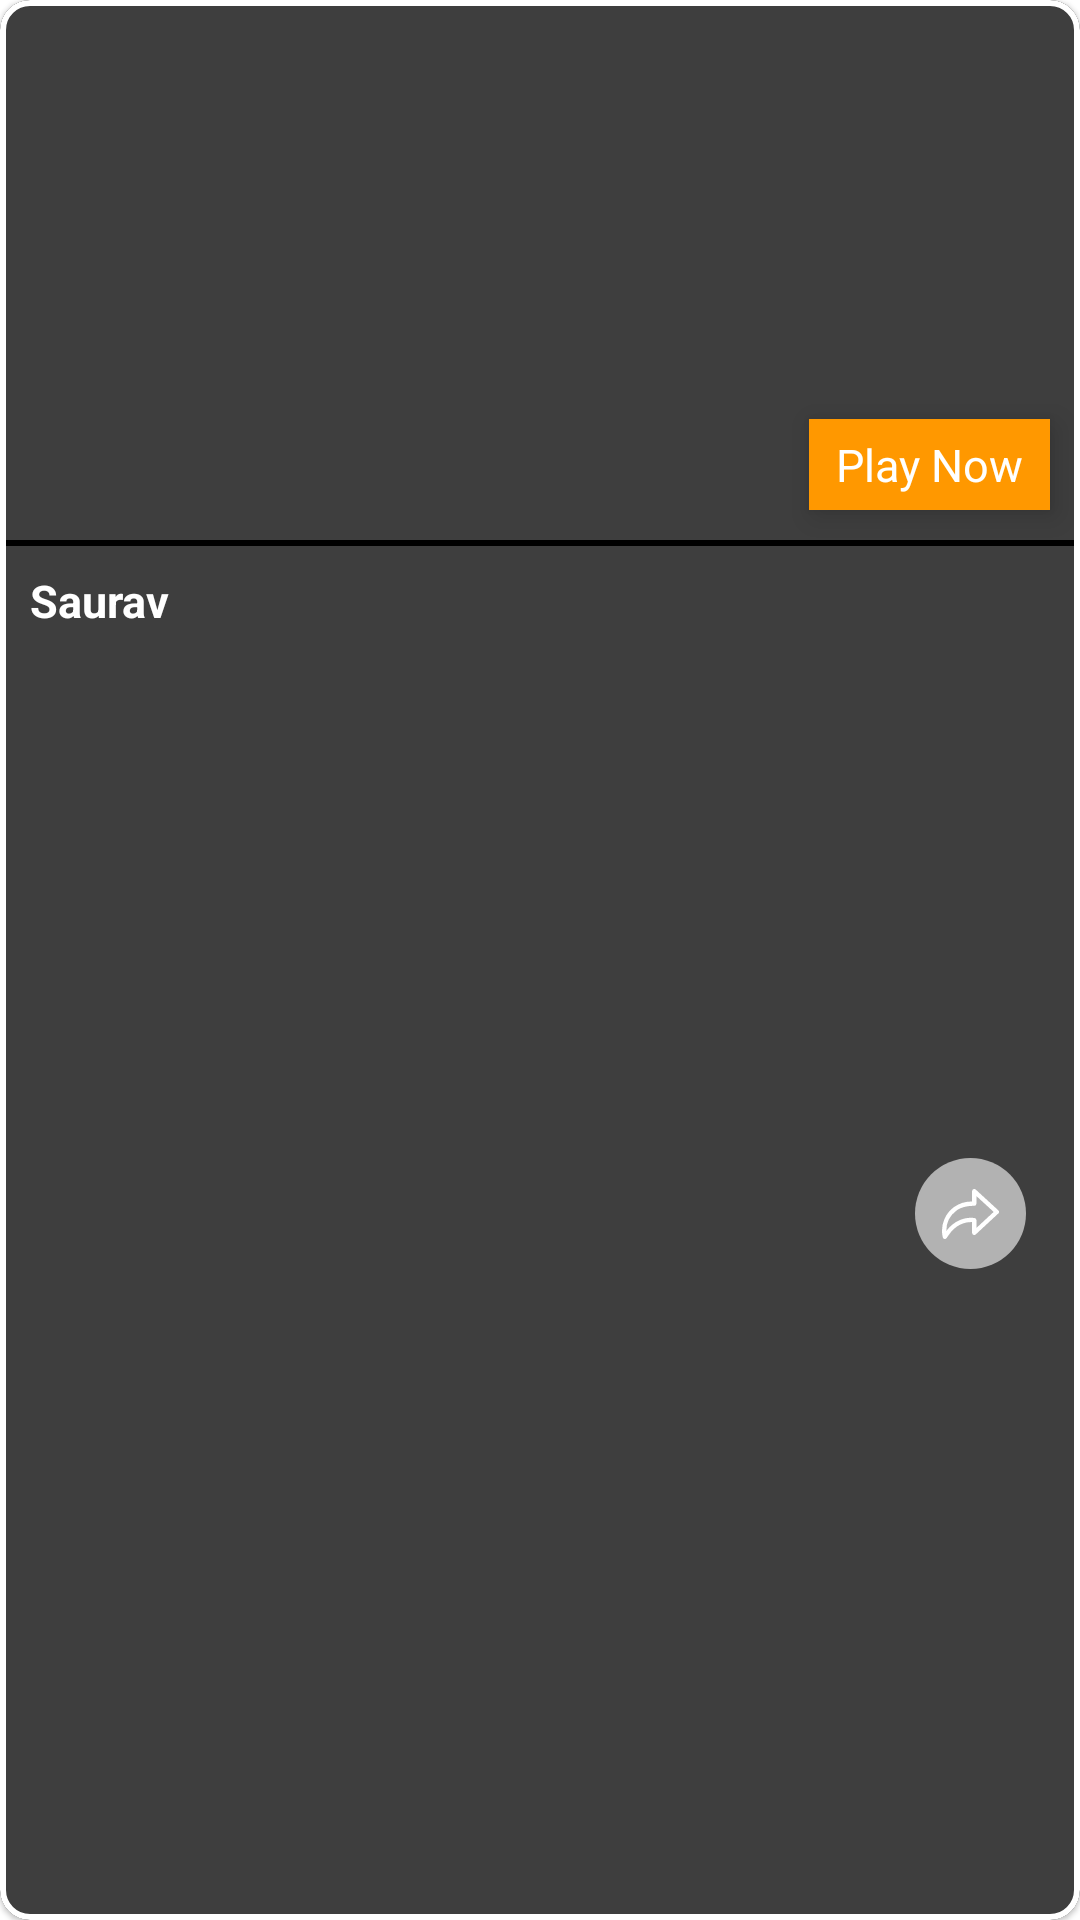

Locate icon controls on the screen. Image size 1080*1920, boxes as (x1, y1, x2, y2).
share: (915, 1158, 1026, 1269)
